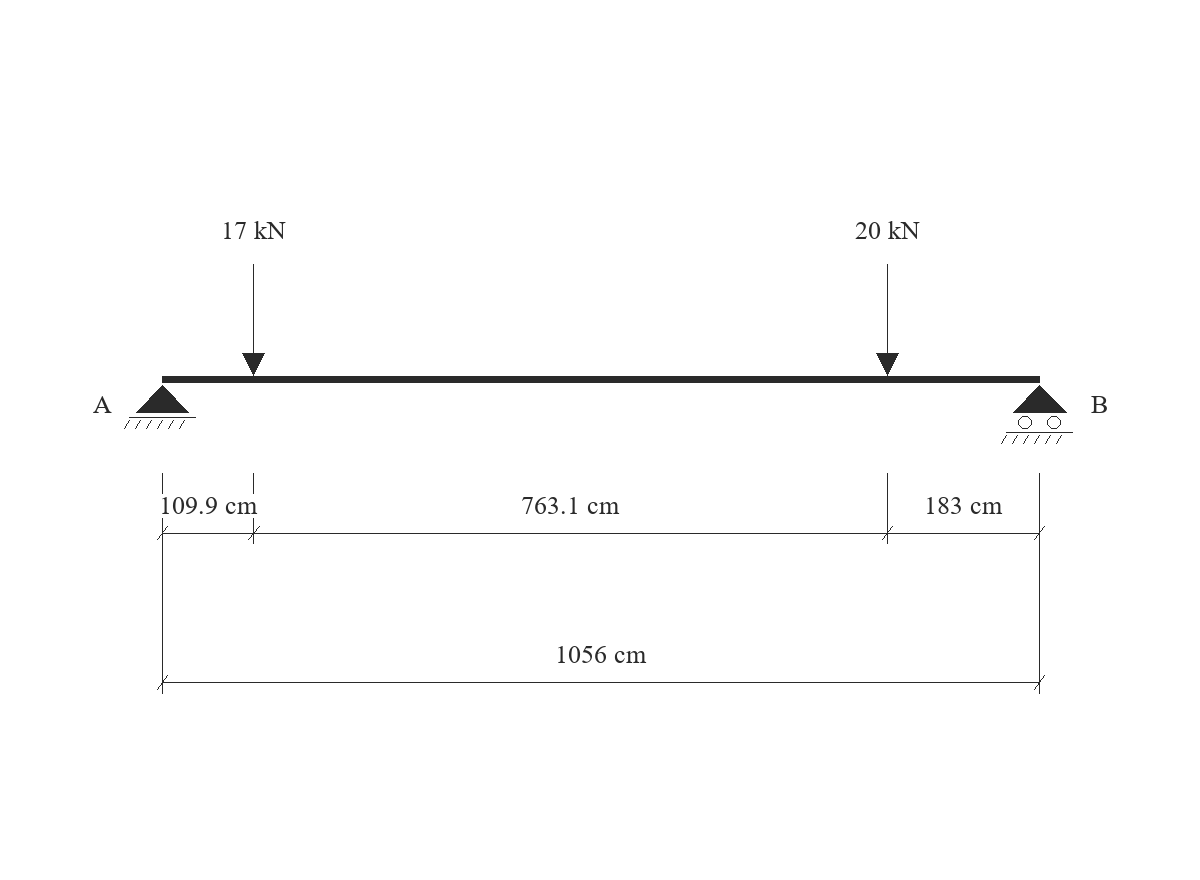pin_support: (124, 385, 196, 429)
point_load: (242, 264, 265, 376), (876, 264, 899, 376)
roller_support: (1001, 385, 1073, 444)
